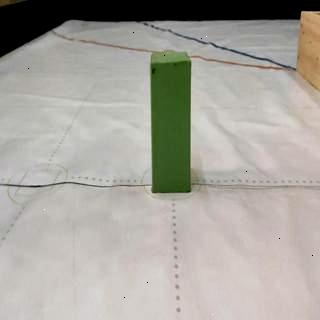greenbox: (151, 53, 191, 195)
